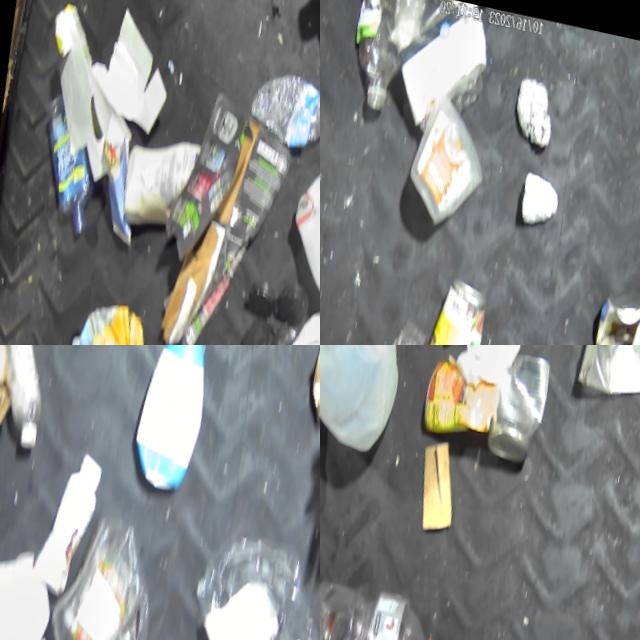can: (469, 345, 556, 467), (407, 353, 498, 444), (399, 269, 490, 345), (574, 274, 640, 345), (290, 345, 320, 425)
milk_jug: (258, 149, 320, 344), (320, 345, 417, 458), (0, 534, 62, 640)
non_white_jug: (12, 503, 166, 640), (99, 345, 229, 497)
plastic_bottle: (329, 0, 425, 118), (320, 573, 442, 640), (235, 65, 320, 155), (0, 345, 70, 450)
